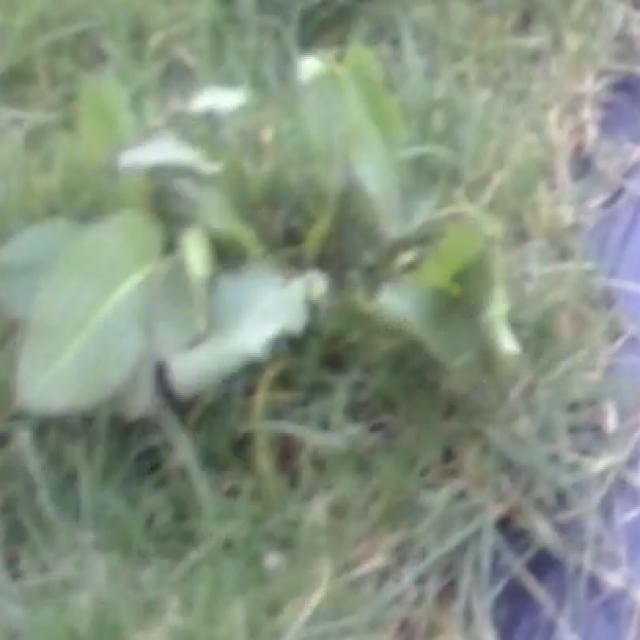organic waste: (0, 52, 588, 462)
